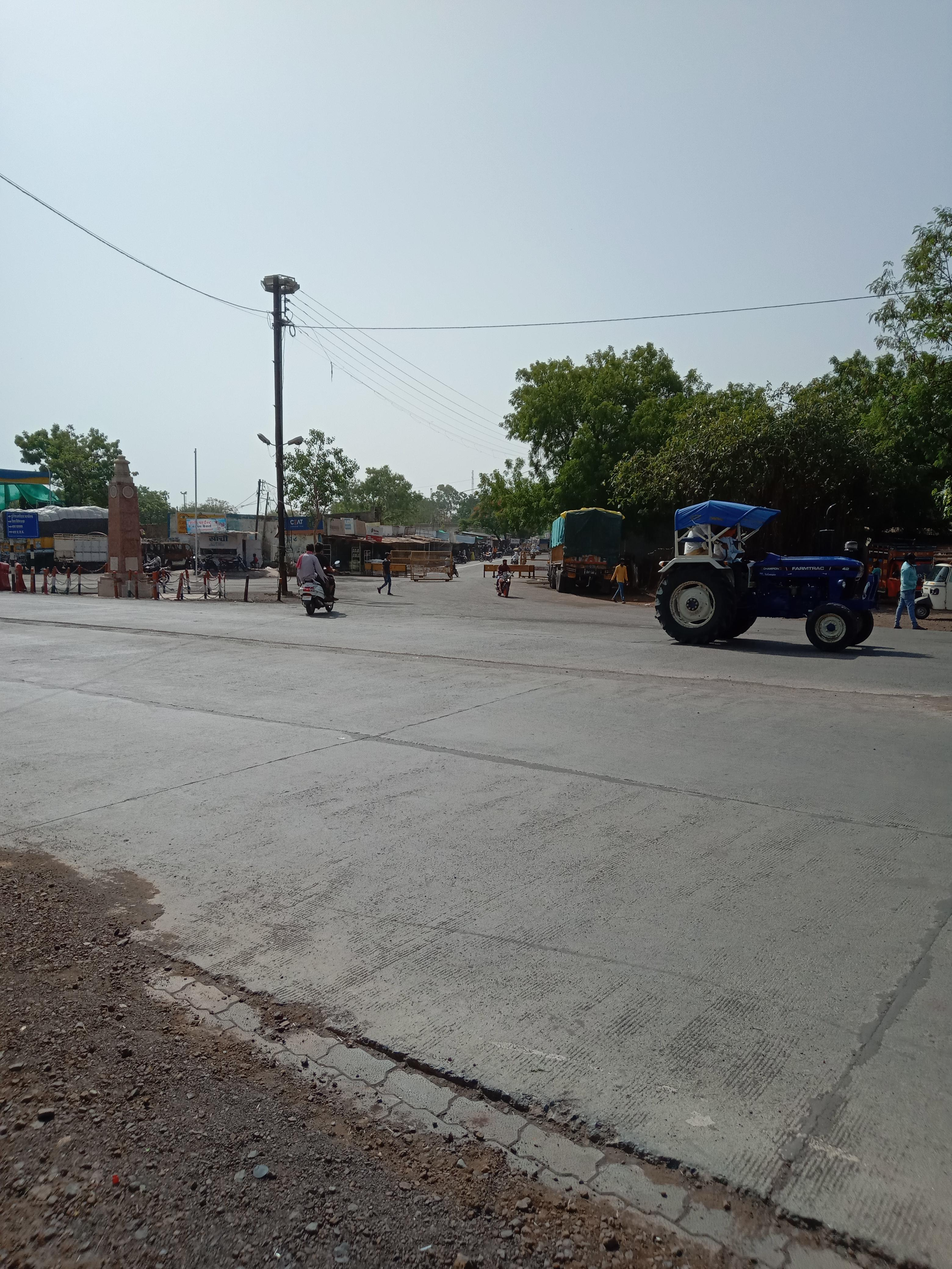Non-emergency: (605, 466, 902, 689)
